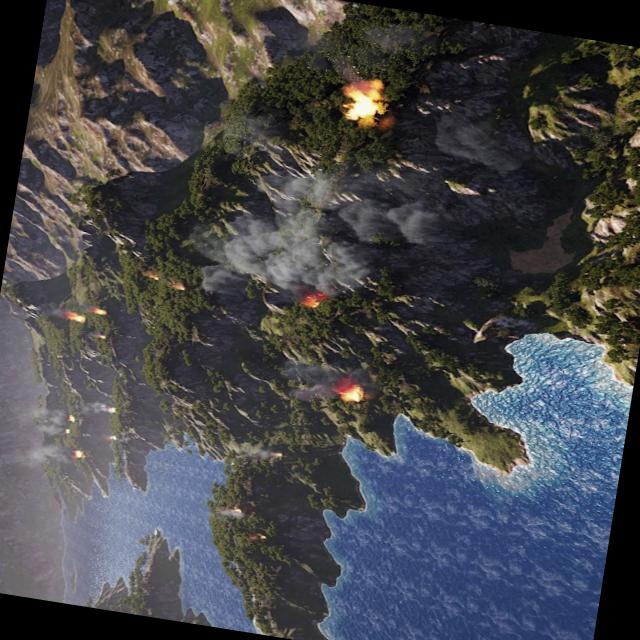fire: (338, 76, 388, 124), (300, 288, 326, 310), (339, 383, 364, 402), (148, 270, 162, 280), (174, 282, 187, 292), (72, 449, 84, 459), (74, 312, 85, 322), (67, 413, 78, 423), (95, 306, 106, 316), (273, 451, 285, 456), (64, 427, 72, 434), (233, 506, 242, 512), (259, 533, 268, 539), (110, 405, 116, 412), (99, 334, 108, 338), (110, 434, 118, 438)
smoke: (179, 153, 447, 324), (274, 352, 374, 410), (26, 437, 76, 468), (36, 406, 70, 425), (45, 301, 75, 321), (30, 417, 64, 434), (80, 398, 112, 416), (219, 504, 247, 520), (250, 447, 274, 460), (80, 300, 98, 312), (85, 330, 100, 338)
